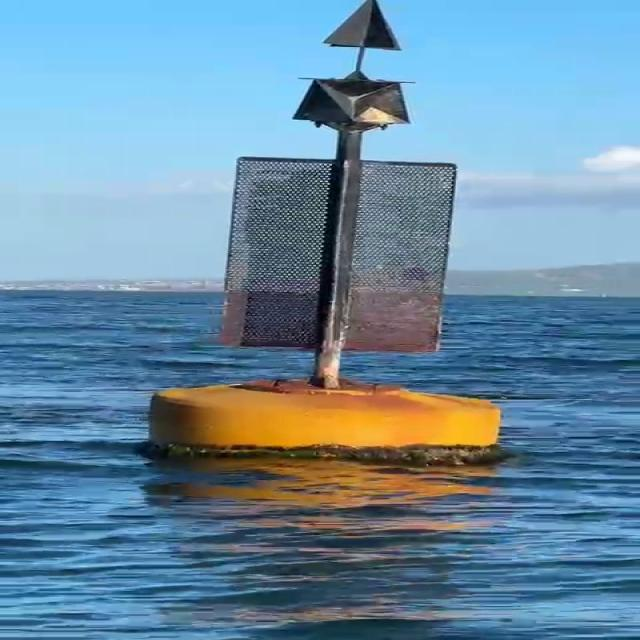marque: (123, 1, 521, 469)
